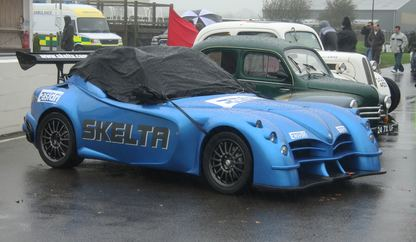ambulance: (32, 3, 124, 50)
car: (23, 47, 387, 194), (193, 22, 400, 124), (191, 36, 393, 139)
